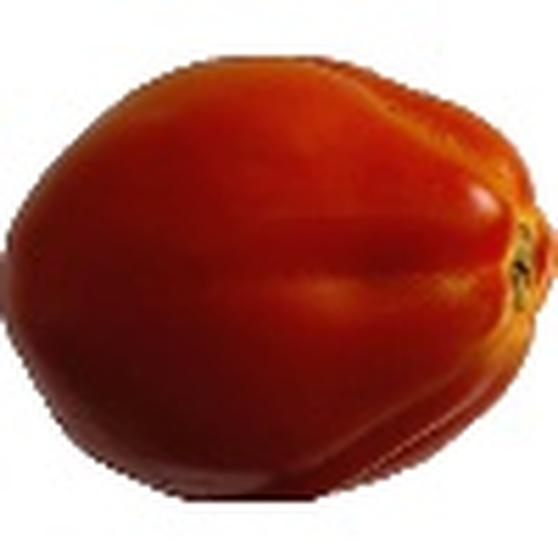tomato: (3, 55, 550, 508)
